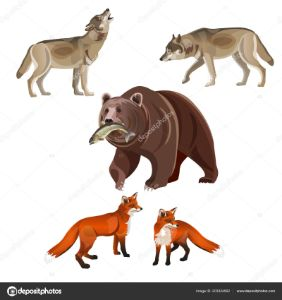bear: (95, 88, 225, 189)
fox: (43, 189, 145, 269), (150, 205, 222, 266)
wolf: (13, 6, 115, 96), (159, 23, 273, 88)
